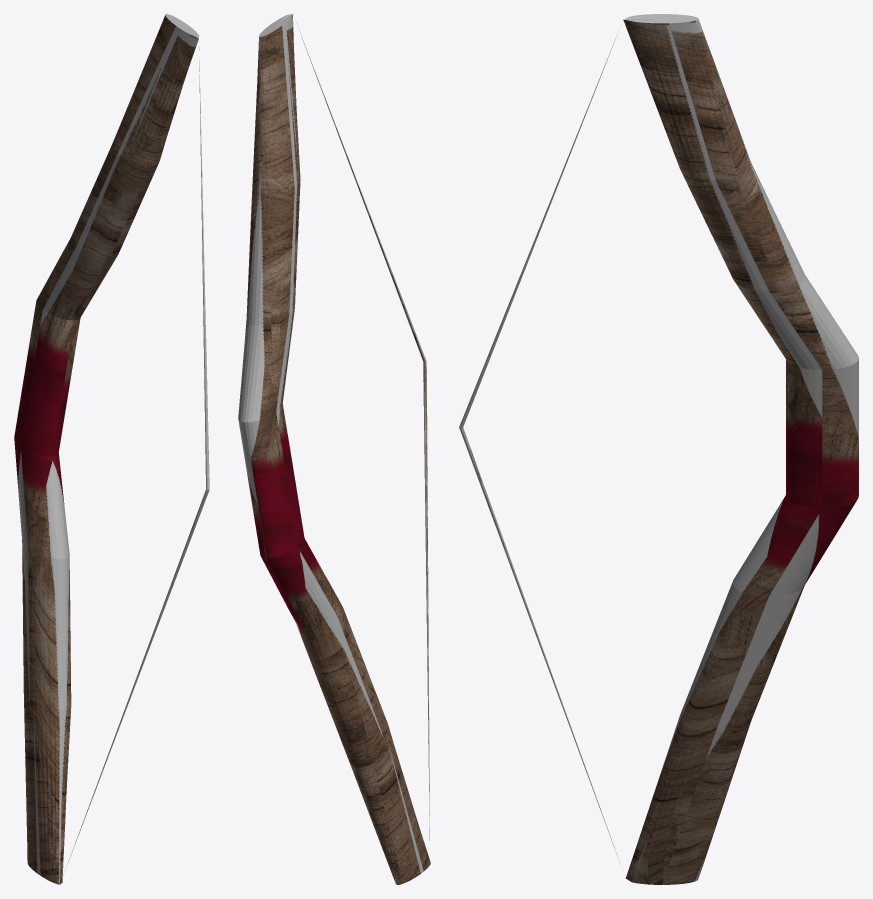
Rendered from Protagonista14.obj.
The picture shows the model from 3 angles, left to right: view 1: azimuth 30°, elevation 25°; view 2: azimuth 150°, elevation 25°; view 3: azimuth 270°, elevation 25°; orthographic projection. The views are drawn at different scales.
Parts seen in each view (by area): view 1: Cilindro; view 2: Cilindro; view 3: Cilindro.
Part boxes in pixels (x1,y1,x2,y2): Cilindro: (14, 14, 209, 884); Cilindro: (238, 14, 430, 884); Cilindro: (459, 14, 858, 884).
Bounding box in the file's own units: 0.1877 × 0.9705 × 0.374.
1 material, 1 textured.
